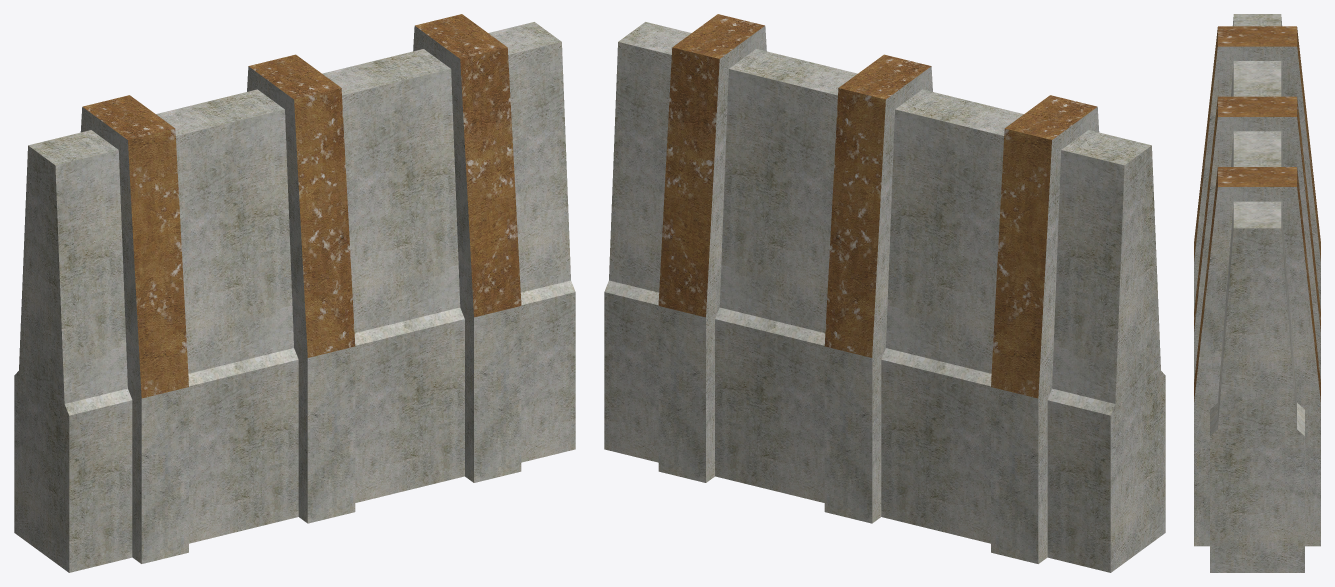
Rendered from mun_all_military_wall_med_rebl_s01_l0.fbx.
3 views of the same model, side by side, from view 1: azimuth 30°, elevation 25°; view 2: azimuth 150°, elevation 25°; view 3: azimuth 270°, elevation 25° (orthographic). The views are drawn at different scales.
Visible parts, largest first — view 1: mesh_node; view 2: mesh_node; view 3: mesh_node.
Part boxes in pixels (bbox=[...]): mesh_node: bbox=[14, 14, 575, 572]; mesh_node: bbox=[604, 14, 1165, 572]; mesh_node: bbox=[1194, 14, 1320, 572].
Size of the model in its own units: 8 by 6.25 by 2.
